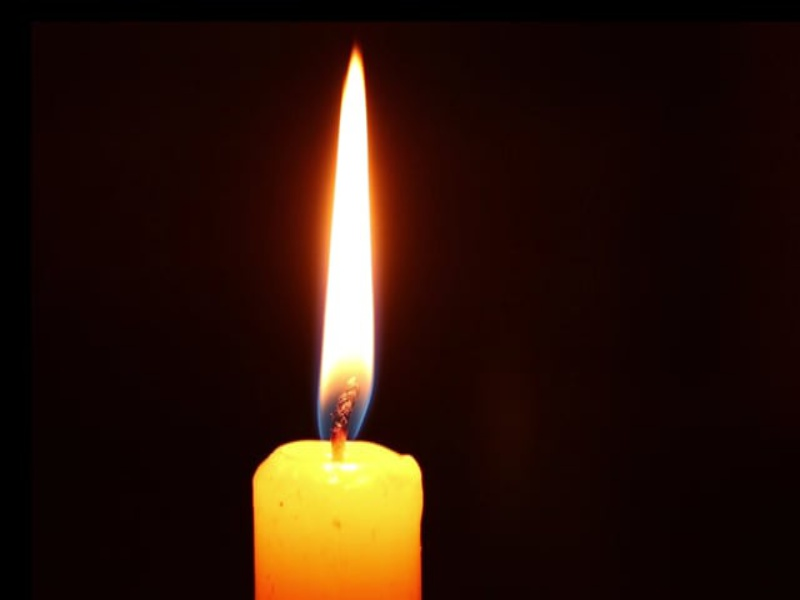fire: (312, 49, 374, 403)
